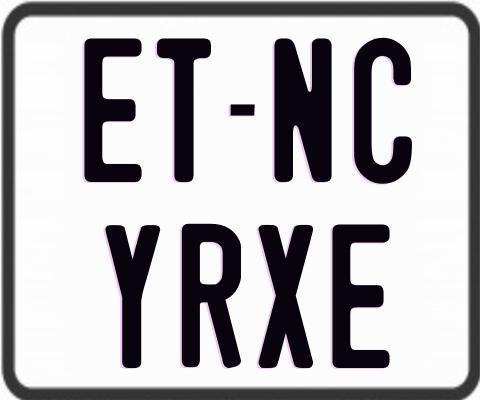C: (354, 35, 417, 184)
E: (331, 224, 393, 369), (84, 35, 142, 182)
N: (274, 38, 337, 186)
R: (179, 224, 244, 368)
T: (155, 37, 215, 186)
X: (258, 223, 319, 372)
Y: (105, 223, 162, 366)
